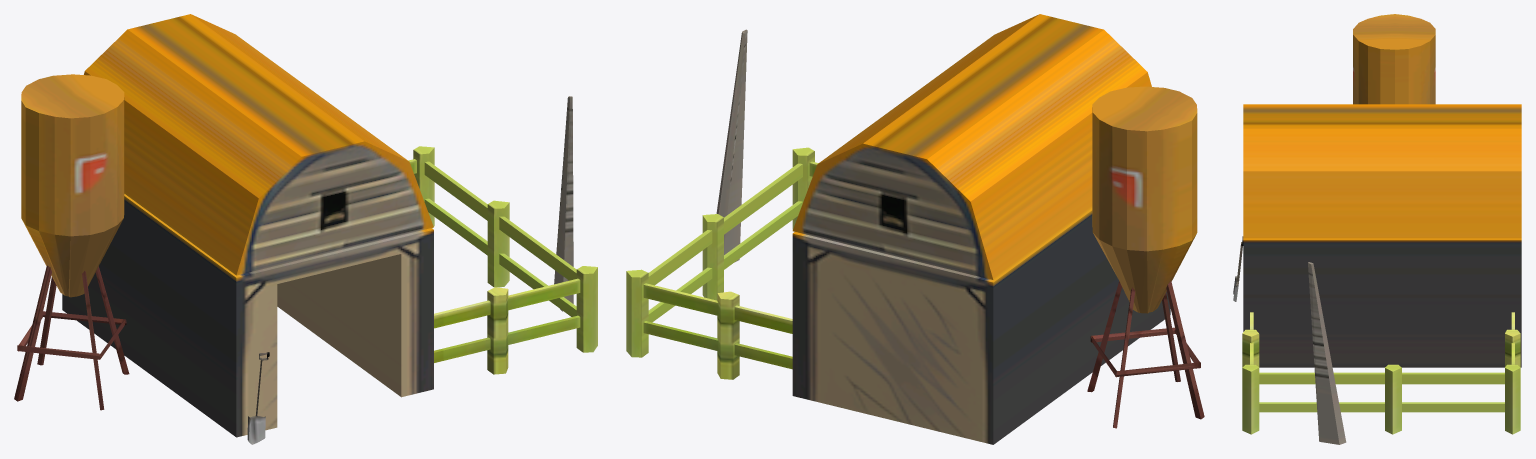
File: Farm.glb
The picture shows the model from 3 angles, left to right: view 1: azimuth 30°, elevation 25°; view 2: azimuth 150°, elevation 25°; view 3: azimuth 270°, elevation 25°; orthographic projection. The views are drawn at different scales.
Visible parts, largest first — view 1: Farm; view 2: Farm; view 3: Farm.
Boxes of the visible parts, x1,y1,x2,y2 form: Farm: (14,14,597,444); Farm: (626,14,1204,444); Farm: (1233,14,1521,444).
Size of the model in its own units: 583 by 316 by 351.
1 material, 1 textured.
